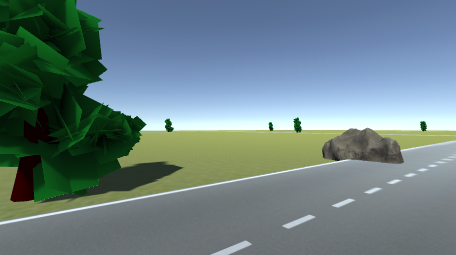rock: (322, 127, 406, 164)
tree: (1, 1, 151, 203), (293, 116, 303, 134), (164, 117, 174, 133), (419, 119, 428, 133), (268, 121, 274, 131)
